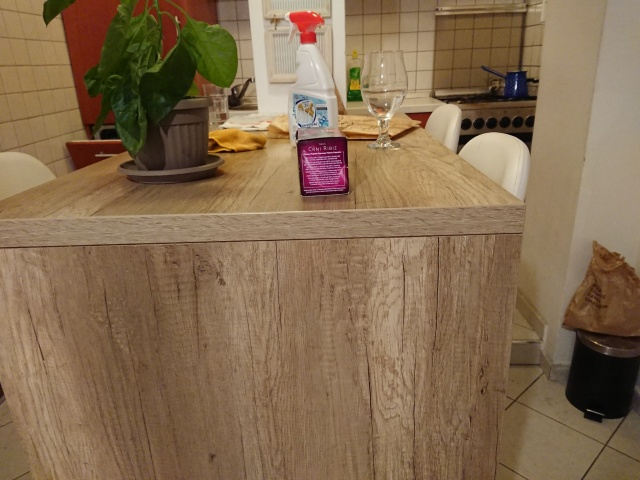Franck Black Currant Tea 60g: (293, 124, 352, 200)
